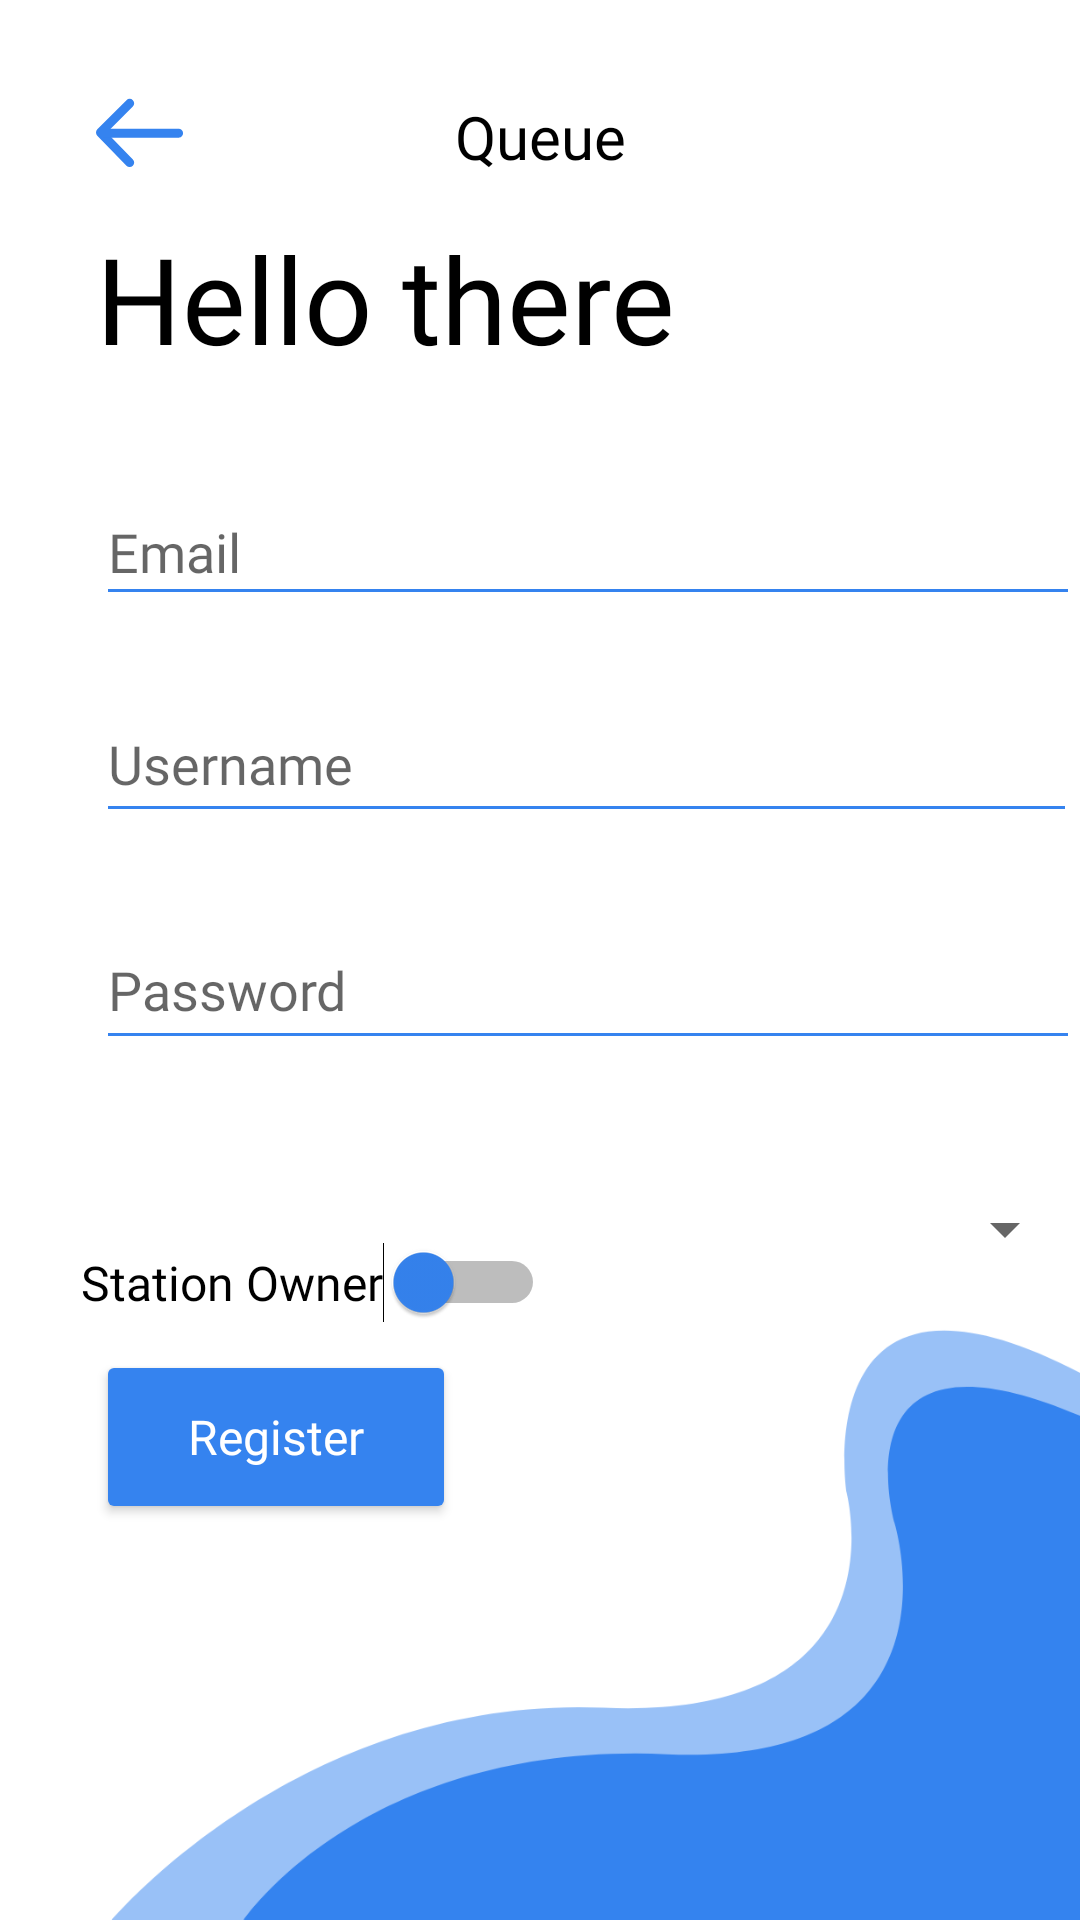

Icons on this 1080*1920 Android screen, each with the point to tap as (x,y):
back: (139,132)
